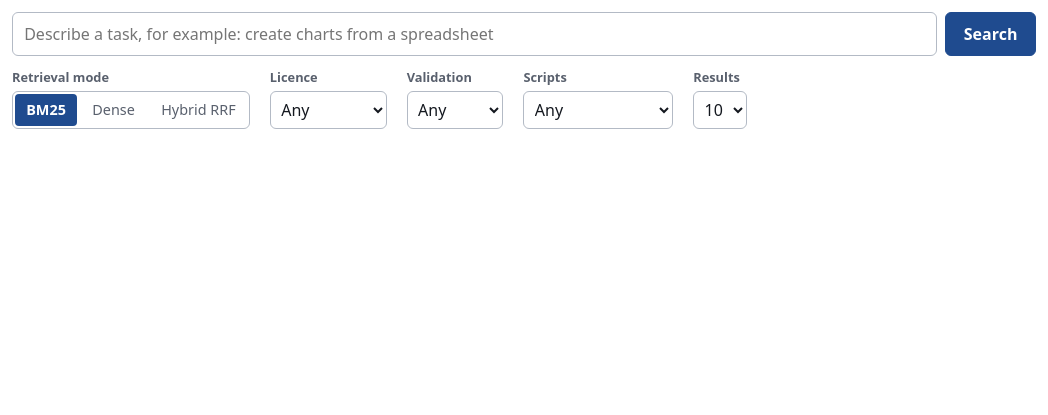
SearchView › submits the trimmed query and renders the ranked result
This screenshot has width=1048, height=415.
In the search field: (475, 34) [12, 12, 937, 56], type "  create charts from a spreadsheet  "
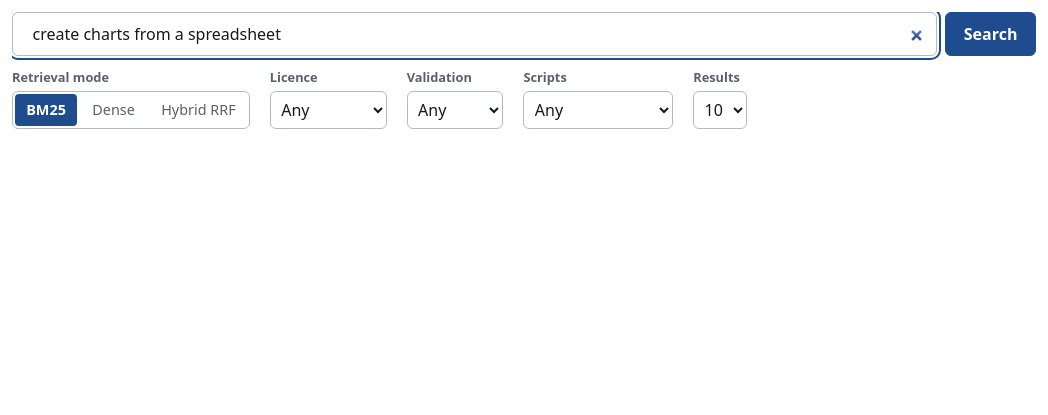
Click the button "Search": (991, 34) [945, 12, 1036, 56]
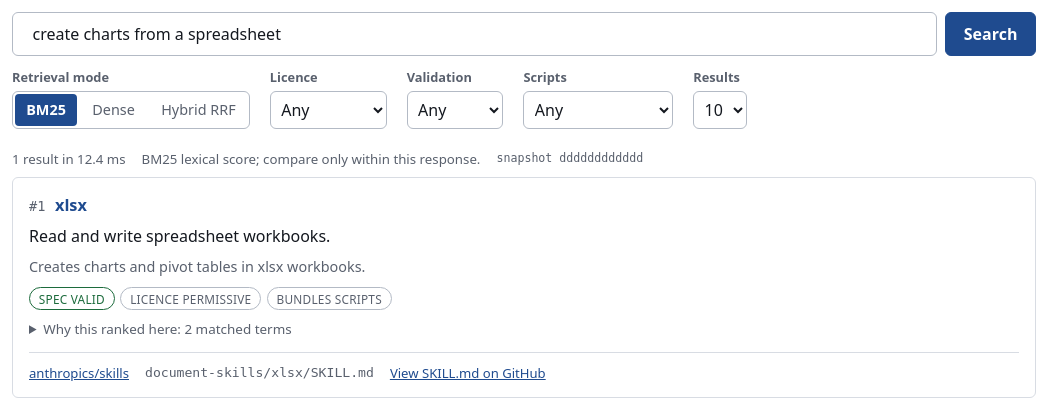
expect the button "xlsx" is shown: met, box [55, 193, 87, 218]
expect the text "1 result in 12.4 ms" is shown: met, box [12, 149, 126, 169]
